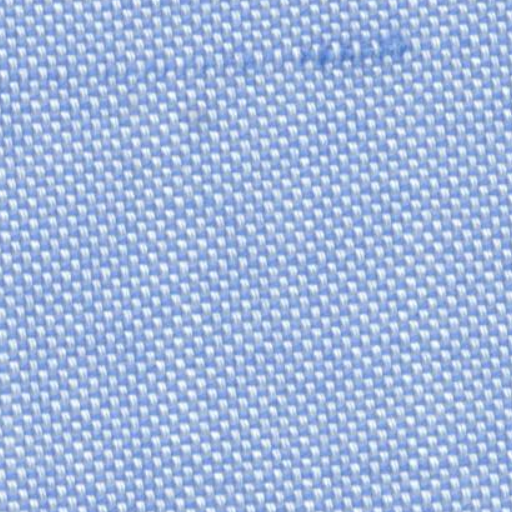DaiSha: (180, 30, 429, 82)
